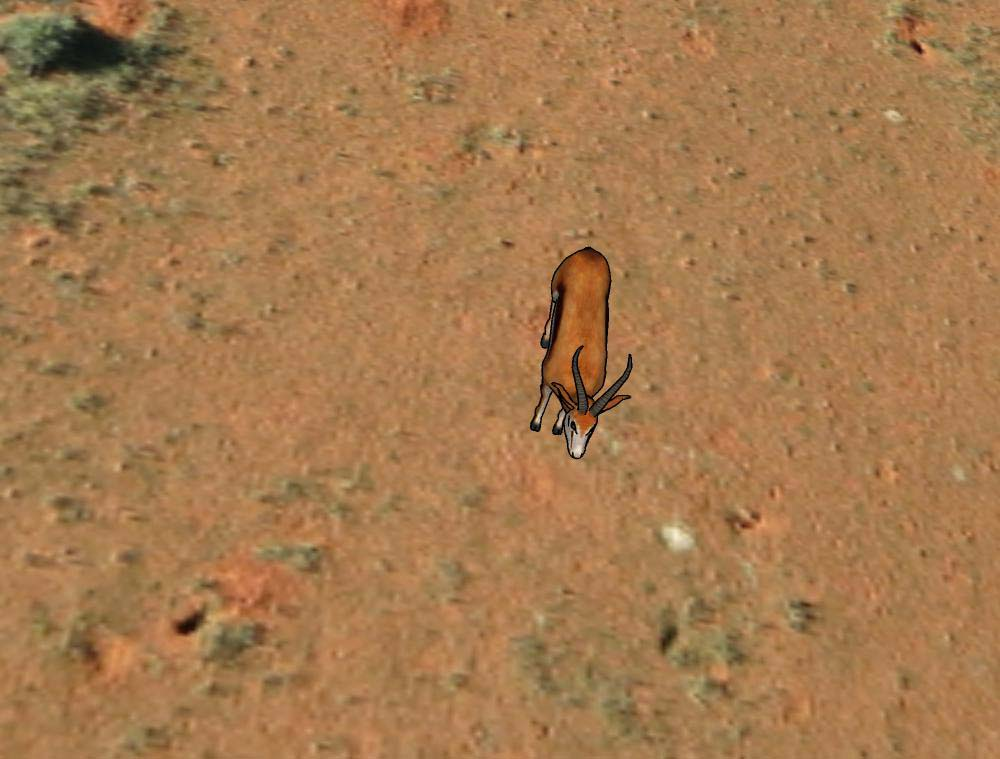springbok: (527, 243, 638, 465)
